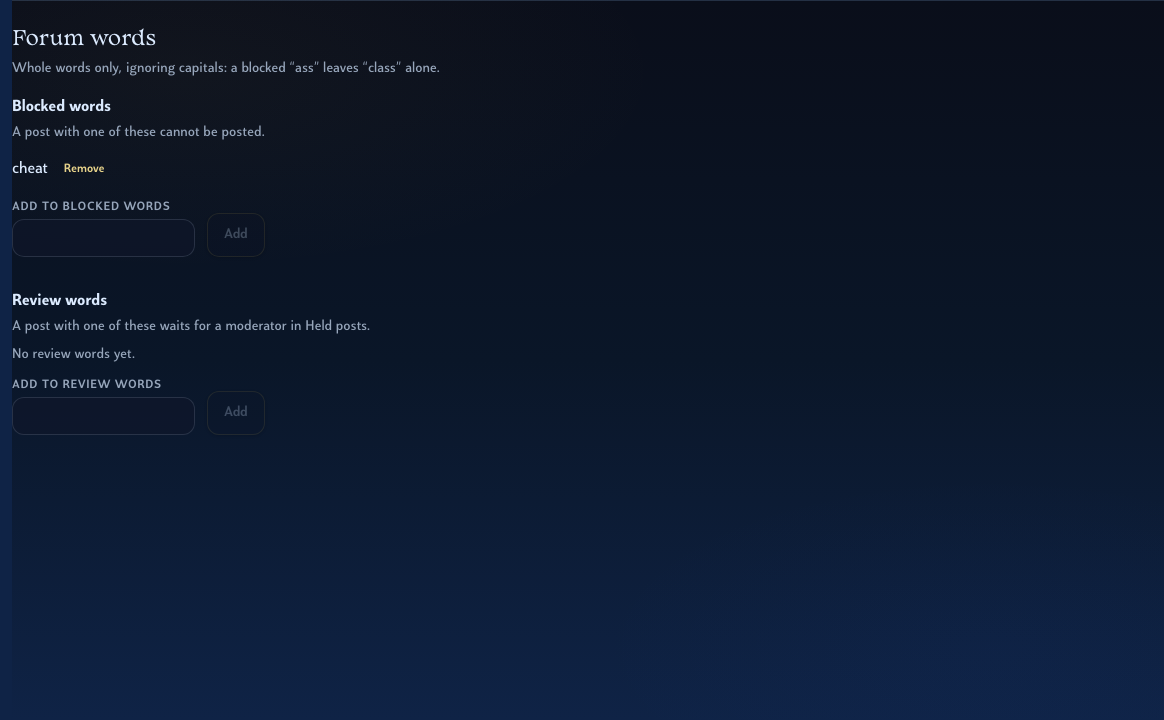
Test: StaffForumWords › removes a word and it leaves the list
Click the button with aria-label "Remove cheat". click: [84, 169]
box: top-left (52, 151), bottom-right (117, 187)
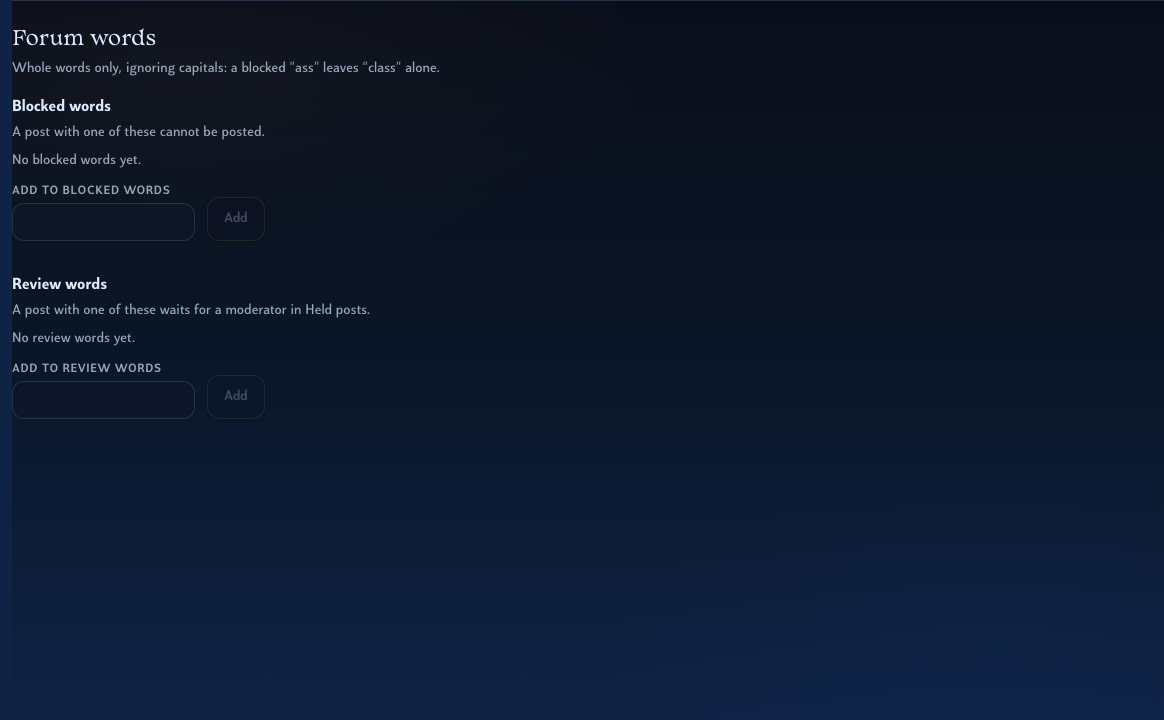
Check: the text "cheat" is gone
Check: the text "No blocked words yet." is shown, box top-left (12, 153), bottom-right (141, 168)
